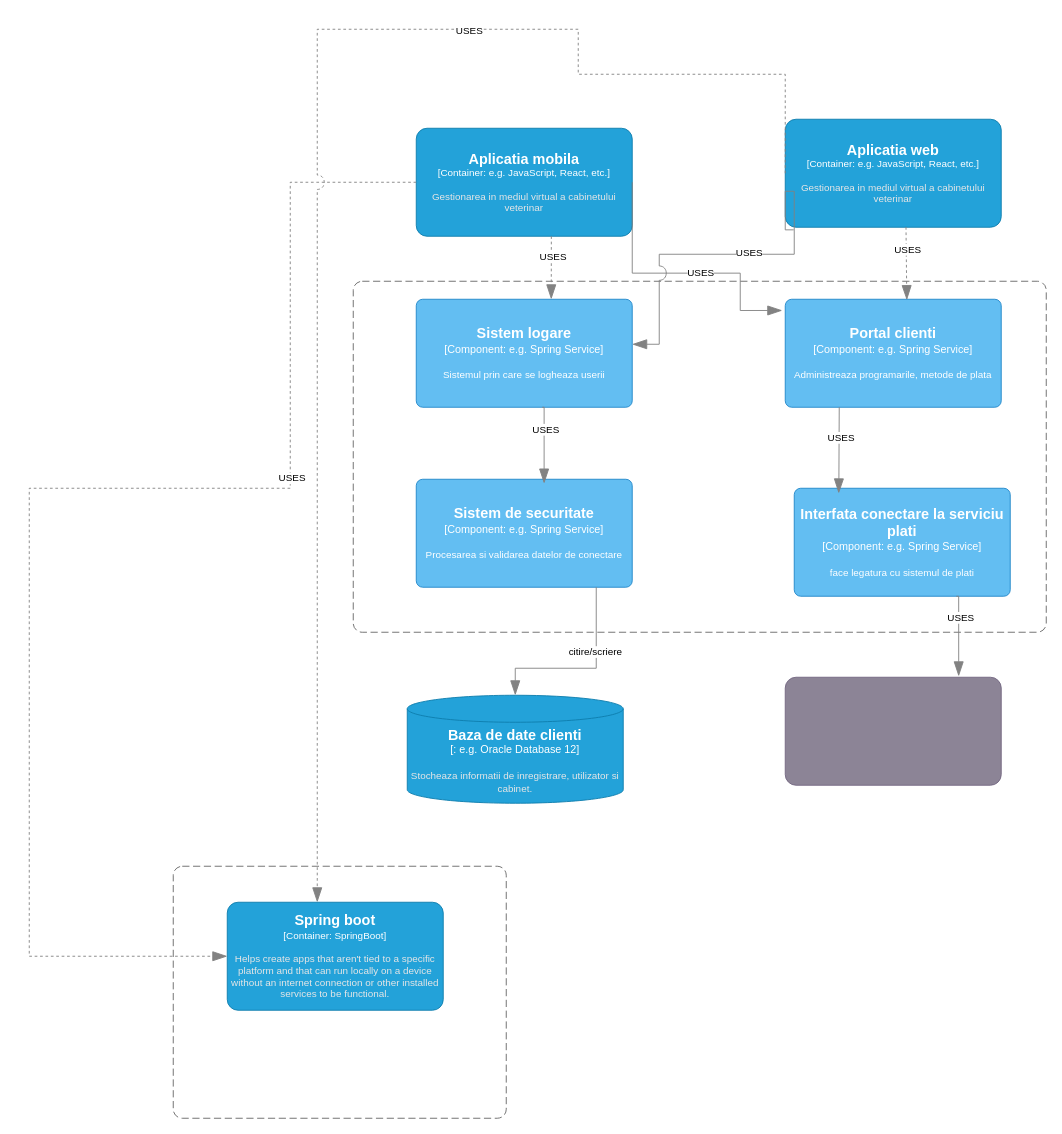
Some shapes in this 1062 by 1134 pixel diagram are drawn without their labels. Each missing label, with the box of its shape:
Aplicatie API [Container]: (352, 280, 1046, 632)
Backend API [Container]: (172, 865, 506, 1118)
Sistem de plati [Software System] Sistem extern de gestionare a plății: (784, 676, 1001, 785)
